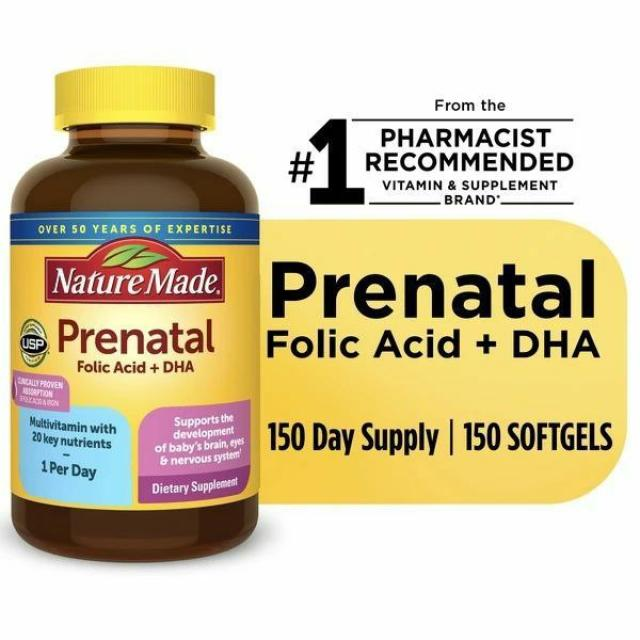medicine: (277, 226, 619, 480), (5, 208, 244, 517)
pregnancy: (284, 92, 590, 224)
